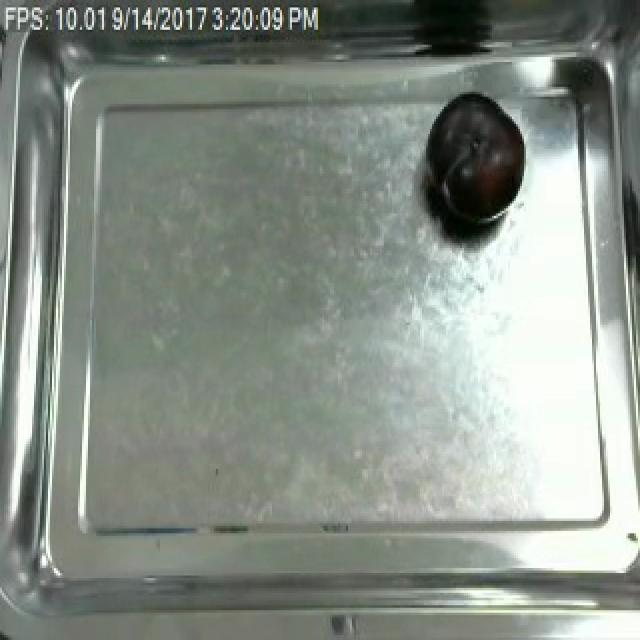Fruit: (418, 89, 530, 233)
